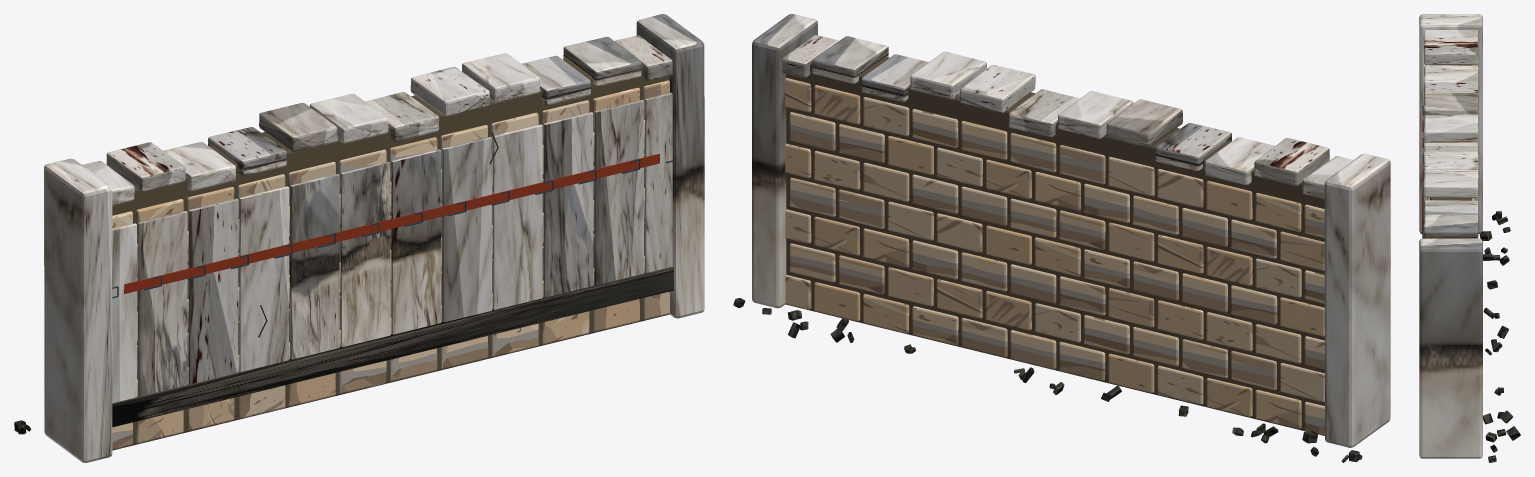
File: ruin_wallrun_6m_LOD0.glb
3 renders of one model, left to right at view 1: azimuth 30°, elevation 25°; view 2: azimuth 150°, elevation 25°; view 3: azimuth 270°, elevation 25°, orthographic. The views are drawn at different scales.
Visible parts, largest first — view 1: WallrunTerminalPier, XWallrunBaseBand, WallrunTerminalPier.001, XWallrunCore, XWallrunVeneer.005, XWallrunVeneer.002, XWallrunVeneer.006, XWallrunVeneer.009, XWallrunVeneer.008, XWallrunVeneer.001, XWallrunVeneer.010, XWallrunVeneer.004 (+32 smaller); view 2: XWallrunCore, WallrunTerminalPier, WallrunTerminalPier.001, XBrokenCap.004, XBrokenCap.007, XBrokenCap.001, XBrokenCap.008, XBrokenCap.010, XBrokenCap.003, XBrokenCap.005, XBrokenCap.006, XBrokenCap.002 (+80 smaller); view 3: WallrunTerminalPier.001, WallrunTerminalPier, XBrokenCap.008, XBrokenCap.001, XBrokenCap.005, XBrokenCap.010, XBrokenCap.004, XBrokenCap.007, XBrokenCap.002, XBrokenCap.009, XBrokenCap.003, XBrokenCap.006 (+4 smaller).
Part boxes in pixels (x1,y1,x2,y2): WallrunTerminalPier: (44, 158, 112, 462); XWallrunBaseBand: (112, 266, 673, 427); WallrunTerminalPier.001: (636, 14, 704, 318); XWallrunCore: (112, 58, 669, 450); XWallrunVeneer.005: (340, 161, 390, 347); XWallrunVeneer.002: (188, 198, 238, 384); XWallrunVeneer.006: (391, 149, 441, 334); XWallrunVeneer.009: (543, 112, 593, 297); XWallrunVeneer.008: (492, 124, 542, 309); XWallrunVeneer.001: (137, 211, 187, 396); XWallrunVeneer.010: (594, 99, 644, 285); XWallrunVeneer.004: (290, 174, 339, 359); XWallrunCore: (785, 56, 1324, 435); WallrunTerminalPier: (1324, 153, 1390, 447); WallrunTerminalPier.001: (752, 14, 817, 308); XBrokenCap.004: (1106, 99, 1182, 147); XBrokenCap.007: (960, 65, 1035, 113); XBrokenCap.001: (1254, 138, 1329, 185); XBrokenCap.008: (910, 51, 986, 99); XBrokenCap.010: (812, 36, 888, 83); XBrokenCap.003: (1155, 123, 1231, 170); XBrokenCap.005: (1057, 91, 1133, 138); XBrokenCap.006: (1008, 89, 1079, 137); XBrokenCap.002: (1204, 137, 1274, 185); WallrunTerminalPier.001: (1419, 238, 1482, 458); WallrunTerminalPier: (1419, 14, 1482, 233); XBrokenCap.008: (1423, 169, 1478, 197); XBrokenCap.001: (1423, 37, 1478, 65); XBrokenCap.005: (1423, 114, 1478, 142); XBrokenCap.010: (1423, 214, 1478, 238); XBrokenCap.004: (1423, 92, 1478, 118); XBrokenCap.007: (1423, 151, 1478, 173); XBrokenCap.002: (1423, 65, 1478, 91); XBrokenCap.009: (1424, 200, 1478, 218); XBrokenCap.003: (1424, 82, 1478, 94); XBrokenCap.006: (1423, 142, 1478, 161).
Size of the model in its own units: 6.4 by 2.64 by 1.12.
7 materials, 3 textured.
